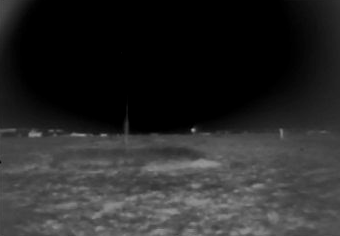dim target: (189, 127, 197, 133)
